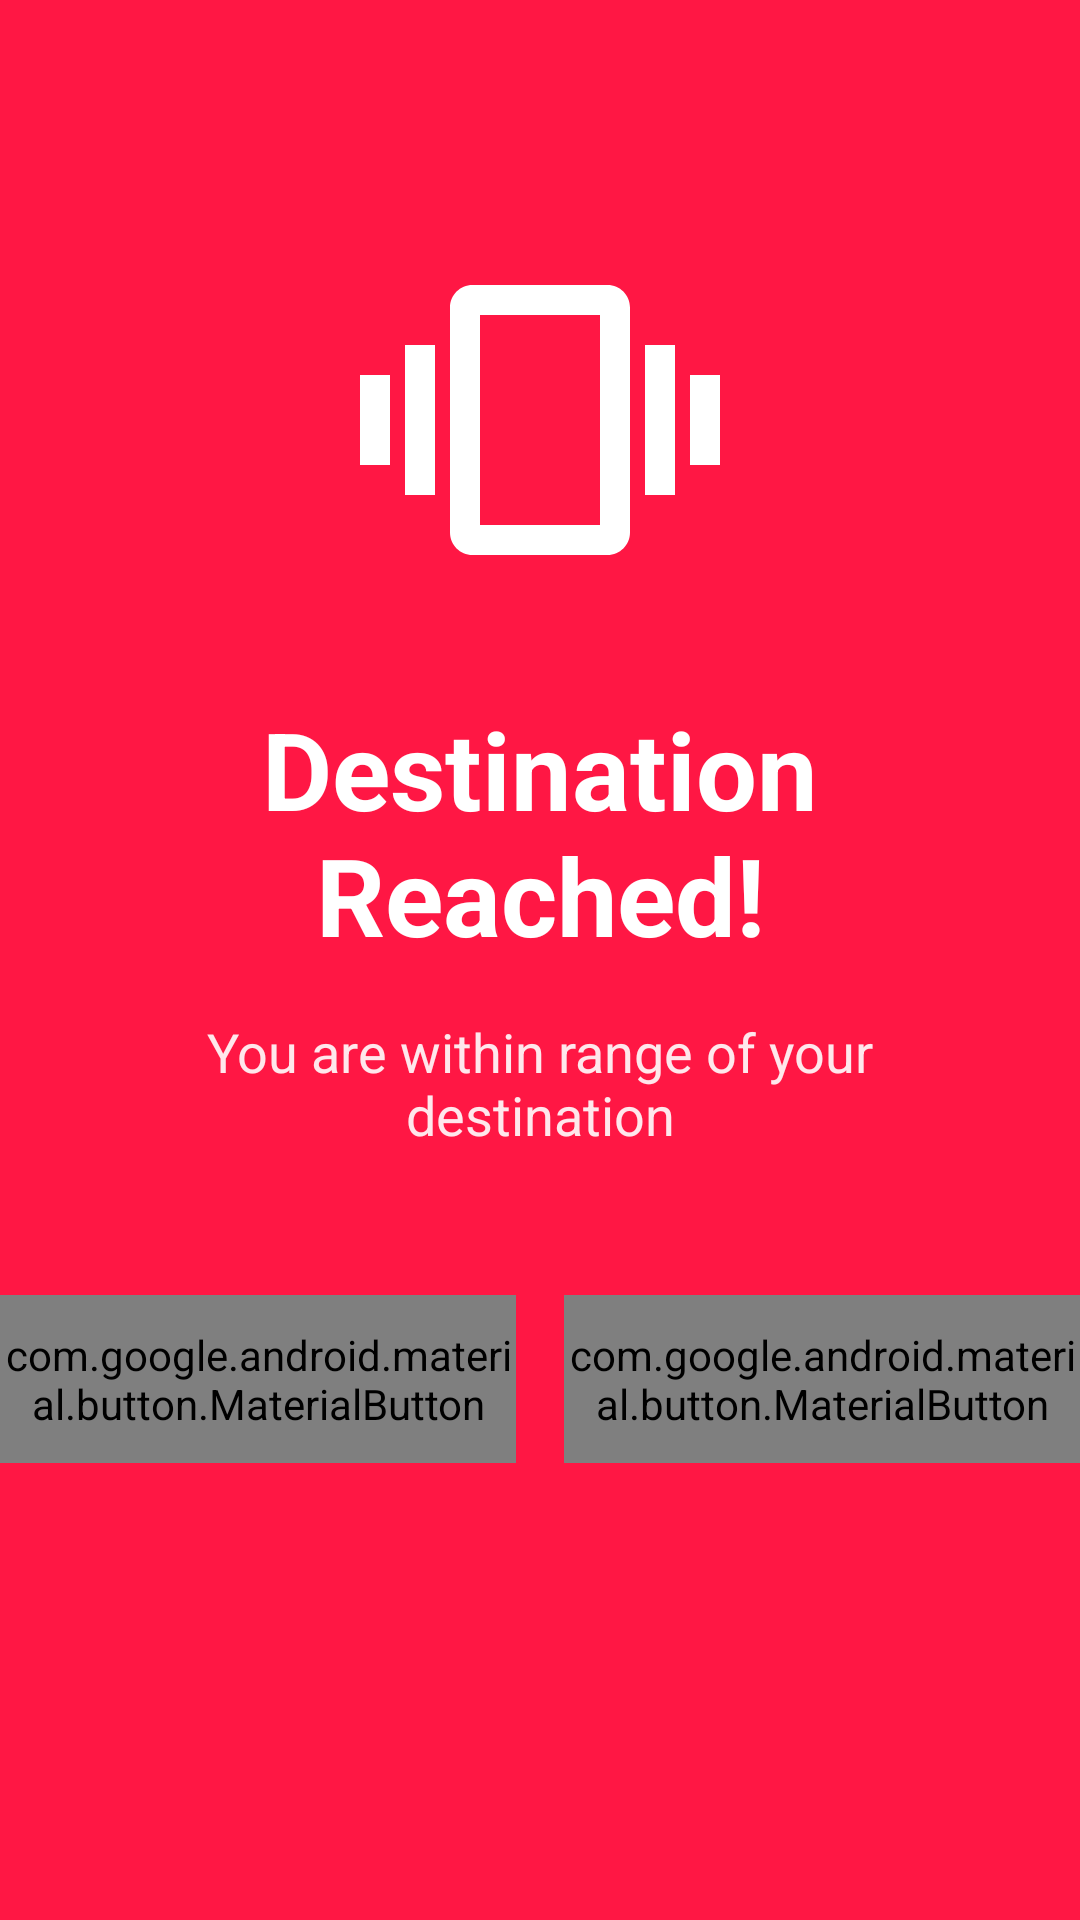

Screen size 1080px x 1920px. Icon name, then its box in pixels as (x1, y1, x2, y2):
Alert: (360, 285, 720, 555)
